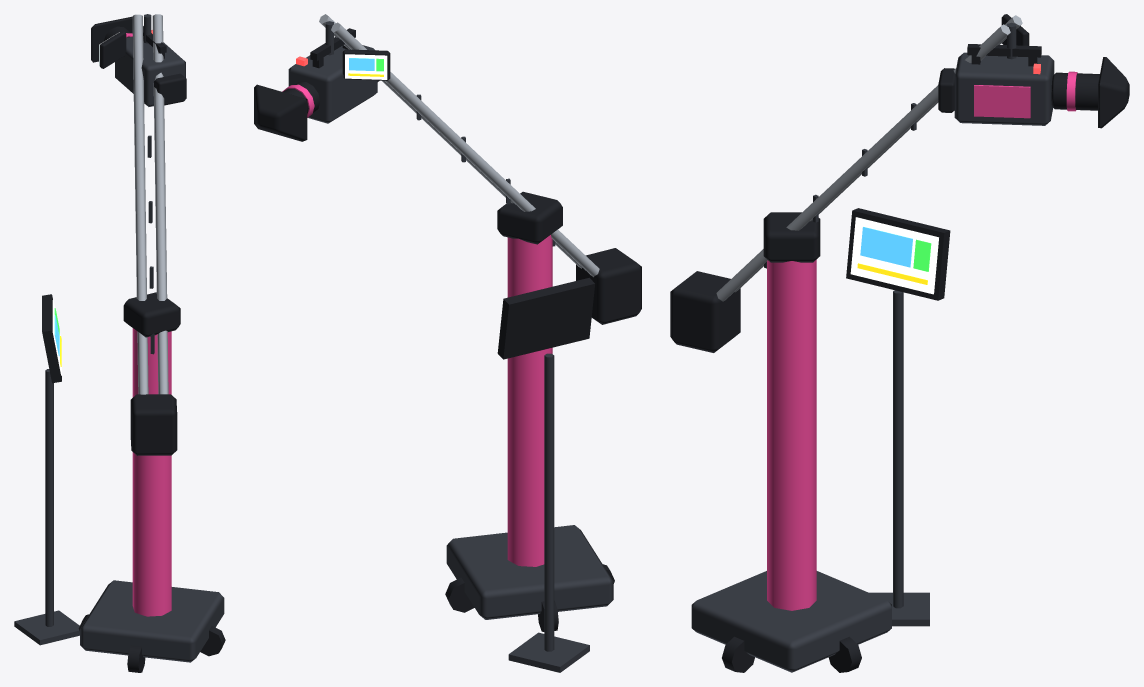
File: station_buffer_ausstattung_1_3.glb
3 renders of one model, left to right at view 1: azimuth 30°, elevation 25°; view 2: azimuth 150°, elevation 25°; view 3: azimuth 270°, elevation 25°, orthographic. The views are drawn at different scales.
Parts seen in each view (by area): view 1: station_buffer_ausstattung_1_3; view 2: station_buffer_ausstattung_1_3; view 3: station_buffer_ausstattung_1_3.
Part boxes in pixels (x1,y1,x2,y2): station_buffer_ausstattung_1_3: (14,14,225,672); station_buffer_ausstattung_1_3: (254,14,641,672); station_buffer_ausstattung_1_3: (670,14,1129,672).
Bounding box in the file's own units: 0.793 × 2.11 × 1.3.
